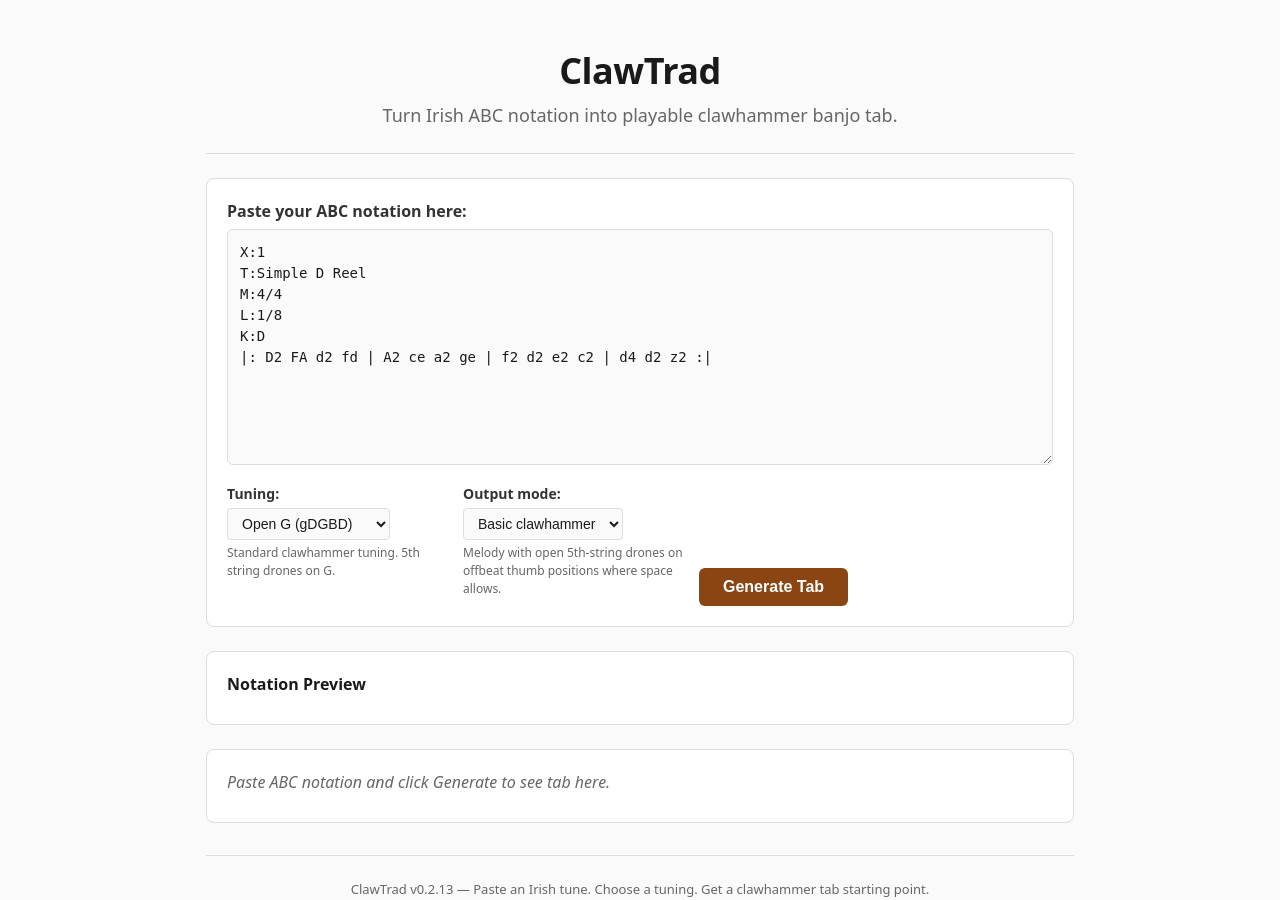
Test: Default ABC (Simple D Reel) › renders beams for default ABC
Click the button "Generate Tab".
click(774, 587)  # box [699,568,848,606]
(page scrolled)
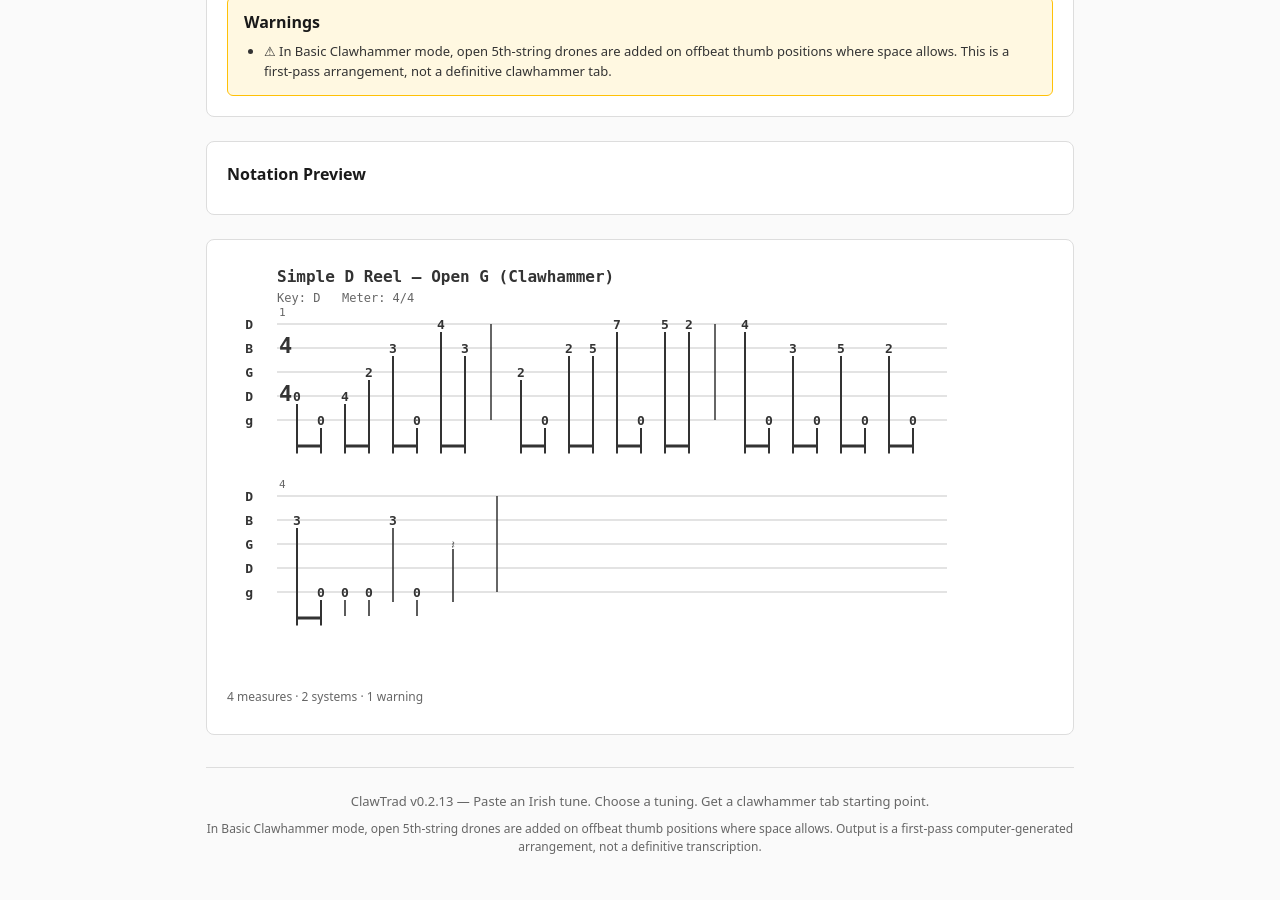
Now the icon with test id "visual-tab-svg" is shown, box [227,260,955,676]
